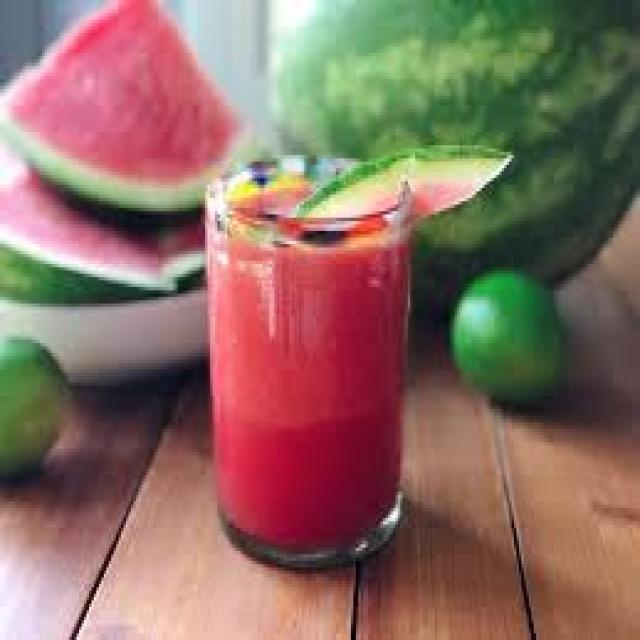watermelon: (269, 0, 637, 313), (0, 0, 245, 221), (0, 165, 205, 303), (0, 333, 77, 482)
